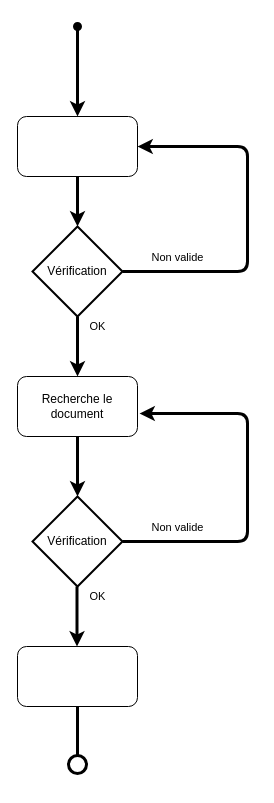
The diagram is 274 pixels wide and 803 high, and some of its shapes have lost their labels. Here are the shapes that lost their labels. From the top down, the centre of each, then its label:
the point at 77,146: Rentre la référence de l'usager
the point at 77,676: Enregistre l'emprunt
